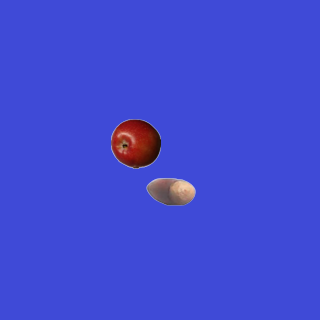Apple Braeburn: (110, 118, 160, 168)
Hazelnut: (145, 166, 195, 216)
